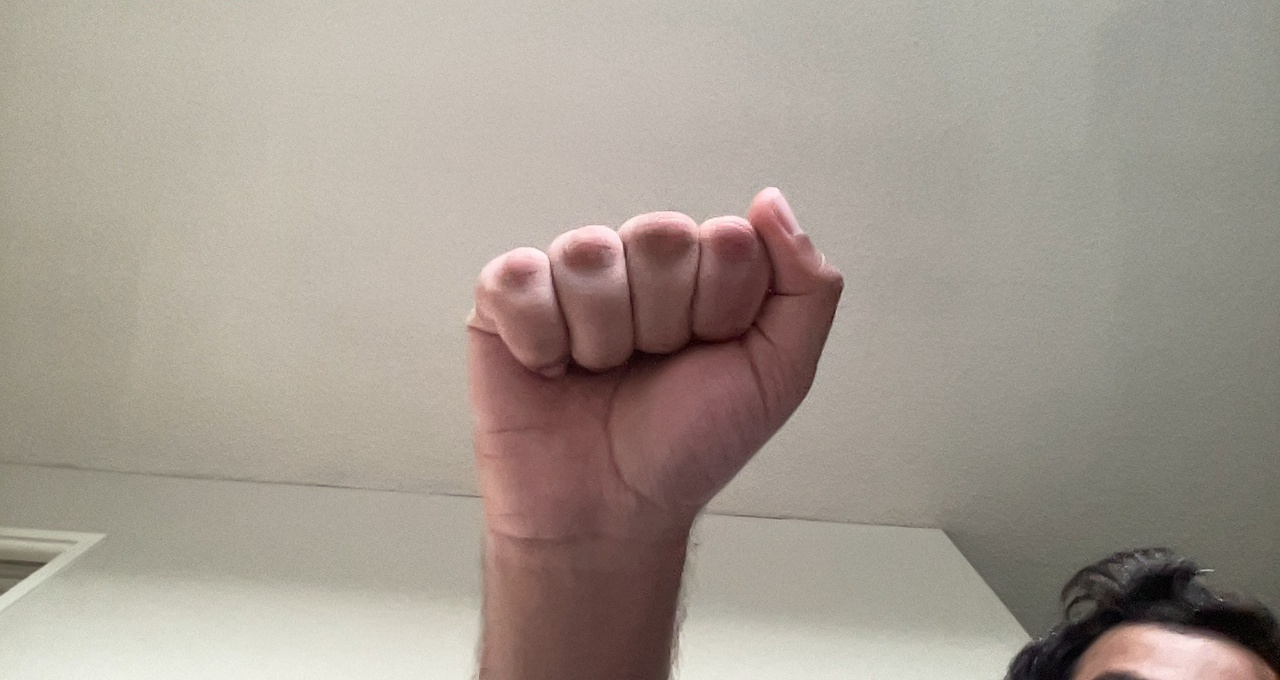closedfist: (446, 167, 863, 564)
